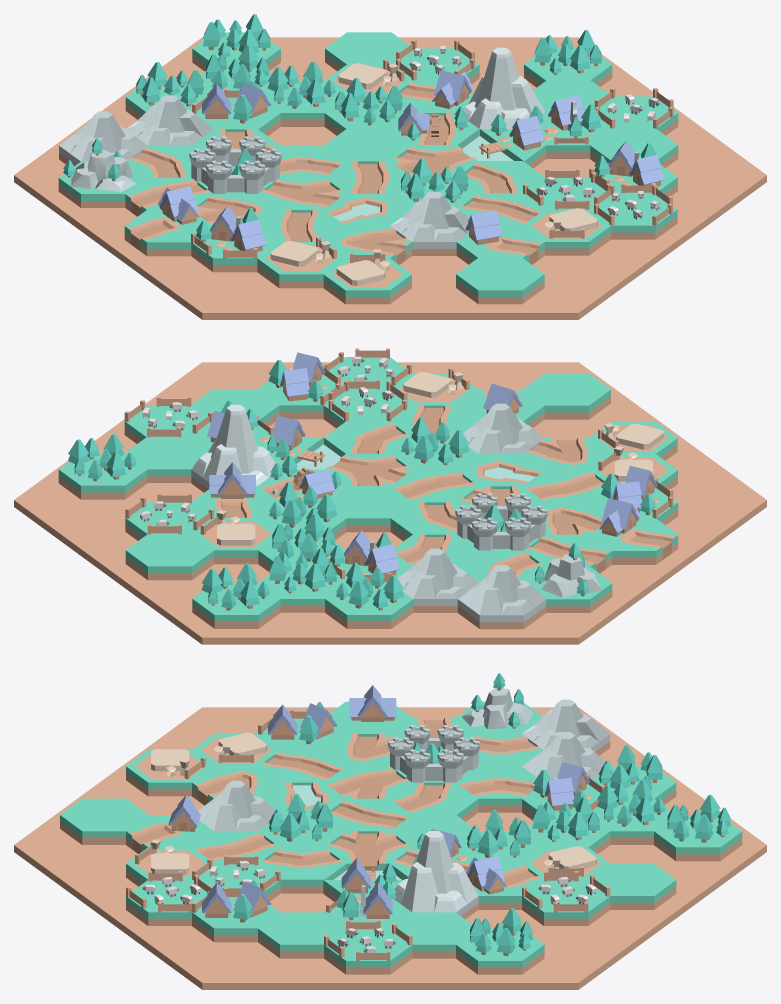
The model's file is River Flow Puzzle (start).fbx.
3 views of the same model, one above another, from view 1: azimuth 30°, elevation 25°; view 2: azimuth 150°, elevation 25°; view 3: azimuth 270°, elevation 25° (orthographic).
Visible parts, largest first — view 1: dirt.001, river_end.002, river_end.003, building_water.001, river_end.004, river_cornerSharp.001, river_intersectionB.002, river_start.001, river_straight.001, river_straight.003, river_corner.005, river_corner.001 (+6 smaller); view 2: dirt.001, river_end.002, river_end.004, river_corner.005, river_start.001, river_straight.003, river_cornerSharp.001, river_straight.001, river_corner.001, river_intersectionD.002, building_water.001, river_end.003 (+6 smaller); view 3: dirt.001, river_corner.005, river_end.004, river_corner.003, river_end.003, river_end.002, river_corner.001, river_intersectionD.002, river_straight.001, river_straight.003, river_intersectionB.002, river_cornerSharp.001 (+6 smaller).
Part boxes in pixels (x1,y1,x2,y2): dirt.001: (14, 14, 766, 319); river_end.002: (124, 186, 212, 256); river_end.003: (456, 210, 544, 264); building_water.001: (391, 103, 479, 148); river_end.004: (400, 70, 473, 115); river_cornerSharp.001: (324, 225, 412, 264); river_intersectionB.002: (258, 177, 345, 212); river_start.001: (324, 193, 410, 225); river_straight.001: (260, 209, 345, 241); river_straight.003: (324, 161, 412, 193); river_corner.005: (466, 161, 544, 193); river_corner.001: (276, 145, 345, 177); dirt.001: (14, 348, 766, 644); river_end.002: (590, 498, 678, 564); river_end.004: (192, 462, 279, 518); river_corner.005: (324, 421, 411, 456); river_start.001: (457, 454, 544, 488); river_straight.003: (391, 470, 478, 504); river_cornerSharp.001: (523, 437, 610, 470); river_straight.001: (523, 470, 603, 502); river_corner.001: (390, 502, 461, 541); river_intersectionD.002: (324, 453, 411, 485); building_water.001: (258, 455, 345, 501); river_end.003: (456, 383, 544, 427); dirt.001: (14, 673, 766, 989); river_corner.005: (258, 847, 346, 893); river_end.004: (466, 856, 543, 909); river_corner.003: (456, 766, 536, 812); river_end.003: (126, 794, 213, 853); river_end.002: (330, 685, 412, 736); river_corner.001: (390, 782, 478, 821); river_intersectionD.002: (324, 831, 412, 870); river_straight.001: (258, 750, 346, 785); river_straight.003: (330, 798, 411, 833); river_intersectionB.002: (324, 766, 411, 798); river_cornerSharp.001: (192, 766, 279, 805).
Bounding box in the file's own units: 850 × 119 × 981.
